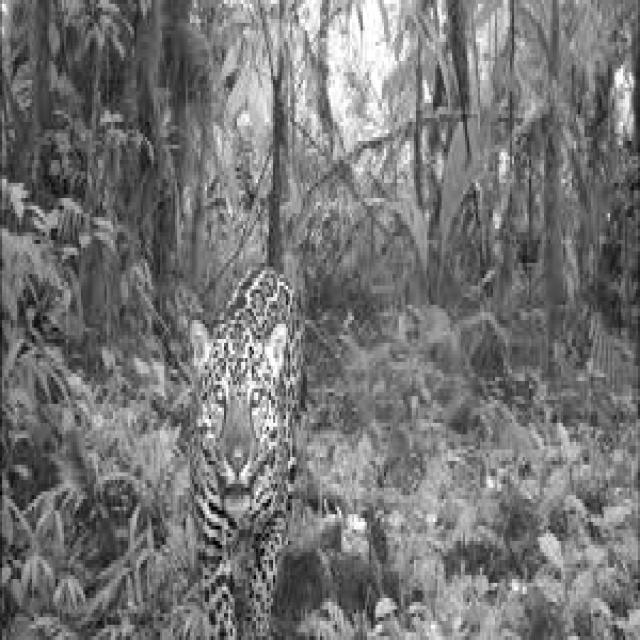Jaguar: (175, 270, 296, 640)
